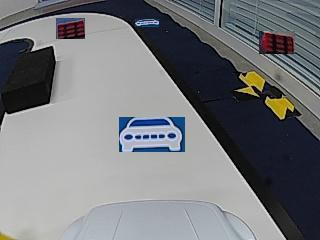block: (2, 45, 55, 114)
